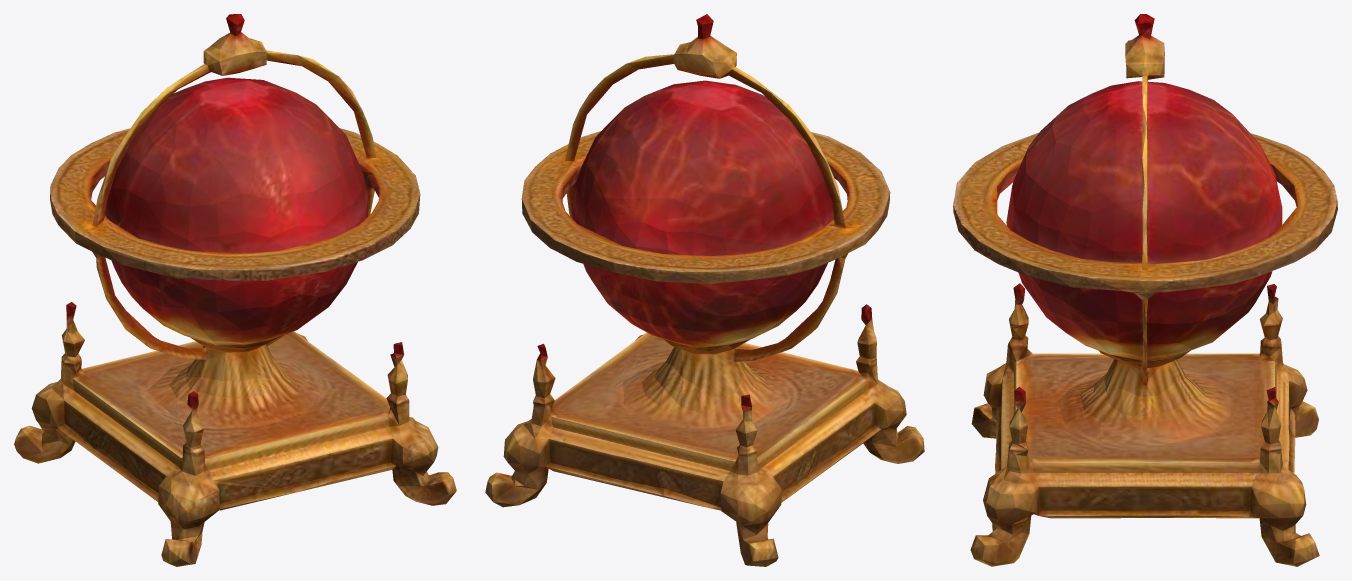
The model's file is orb_red_stand_lod0.glb.
3 renders of one model, left to right at view 1: azimuth 30°, elevation 25°; view 2: azimuth 150°, elevation 25°; view 3: azimuth 270°, elevation 25°, orthographic. The views are drawn at different scales.
Visible parts, largest first — view 1: orb_red_stand_lod0; view 2: orb_red_stand_lod0; view 3: orb_red_stand_lod0.
Boxes of the visible parts, <box> form: orb_red_stand_lod0: <box>14,14,456,566</box>; orb_red_stand_lod0: <box>485,14,924,566</box>; orb_red_stand_lod0: <box>953,14,1337,566</box>.
Bounding box in the file's own units: 0.8633 × 1.2 × 0.8641.
1 material, 1 textured.
